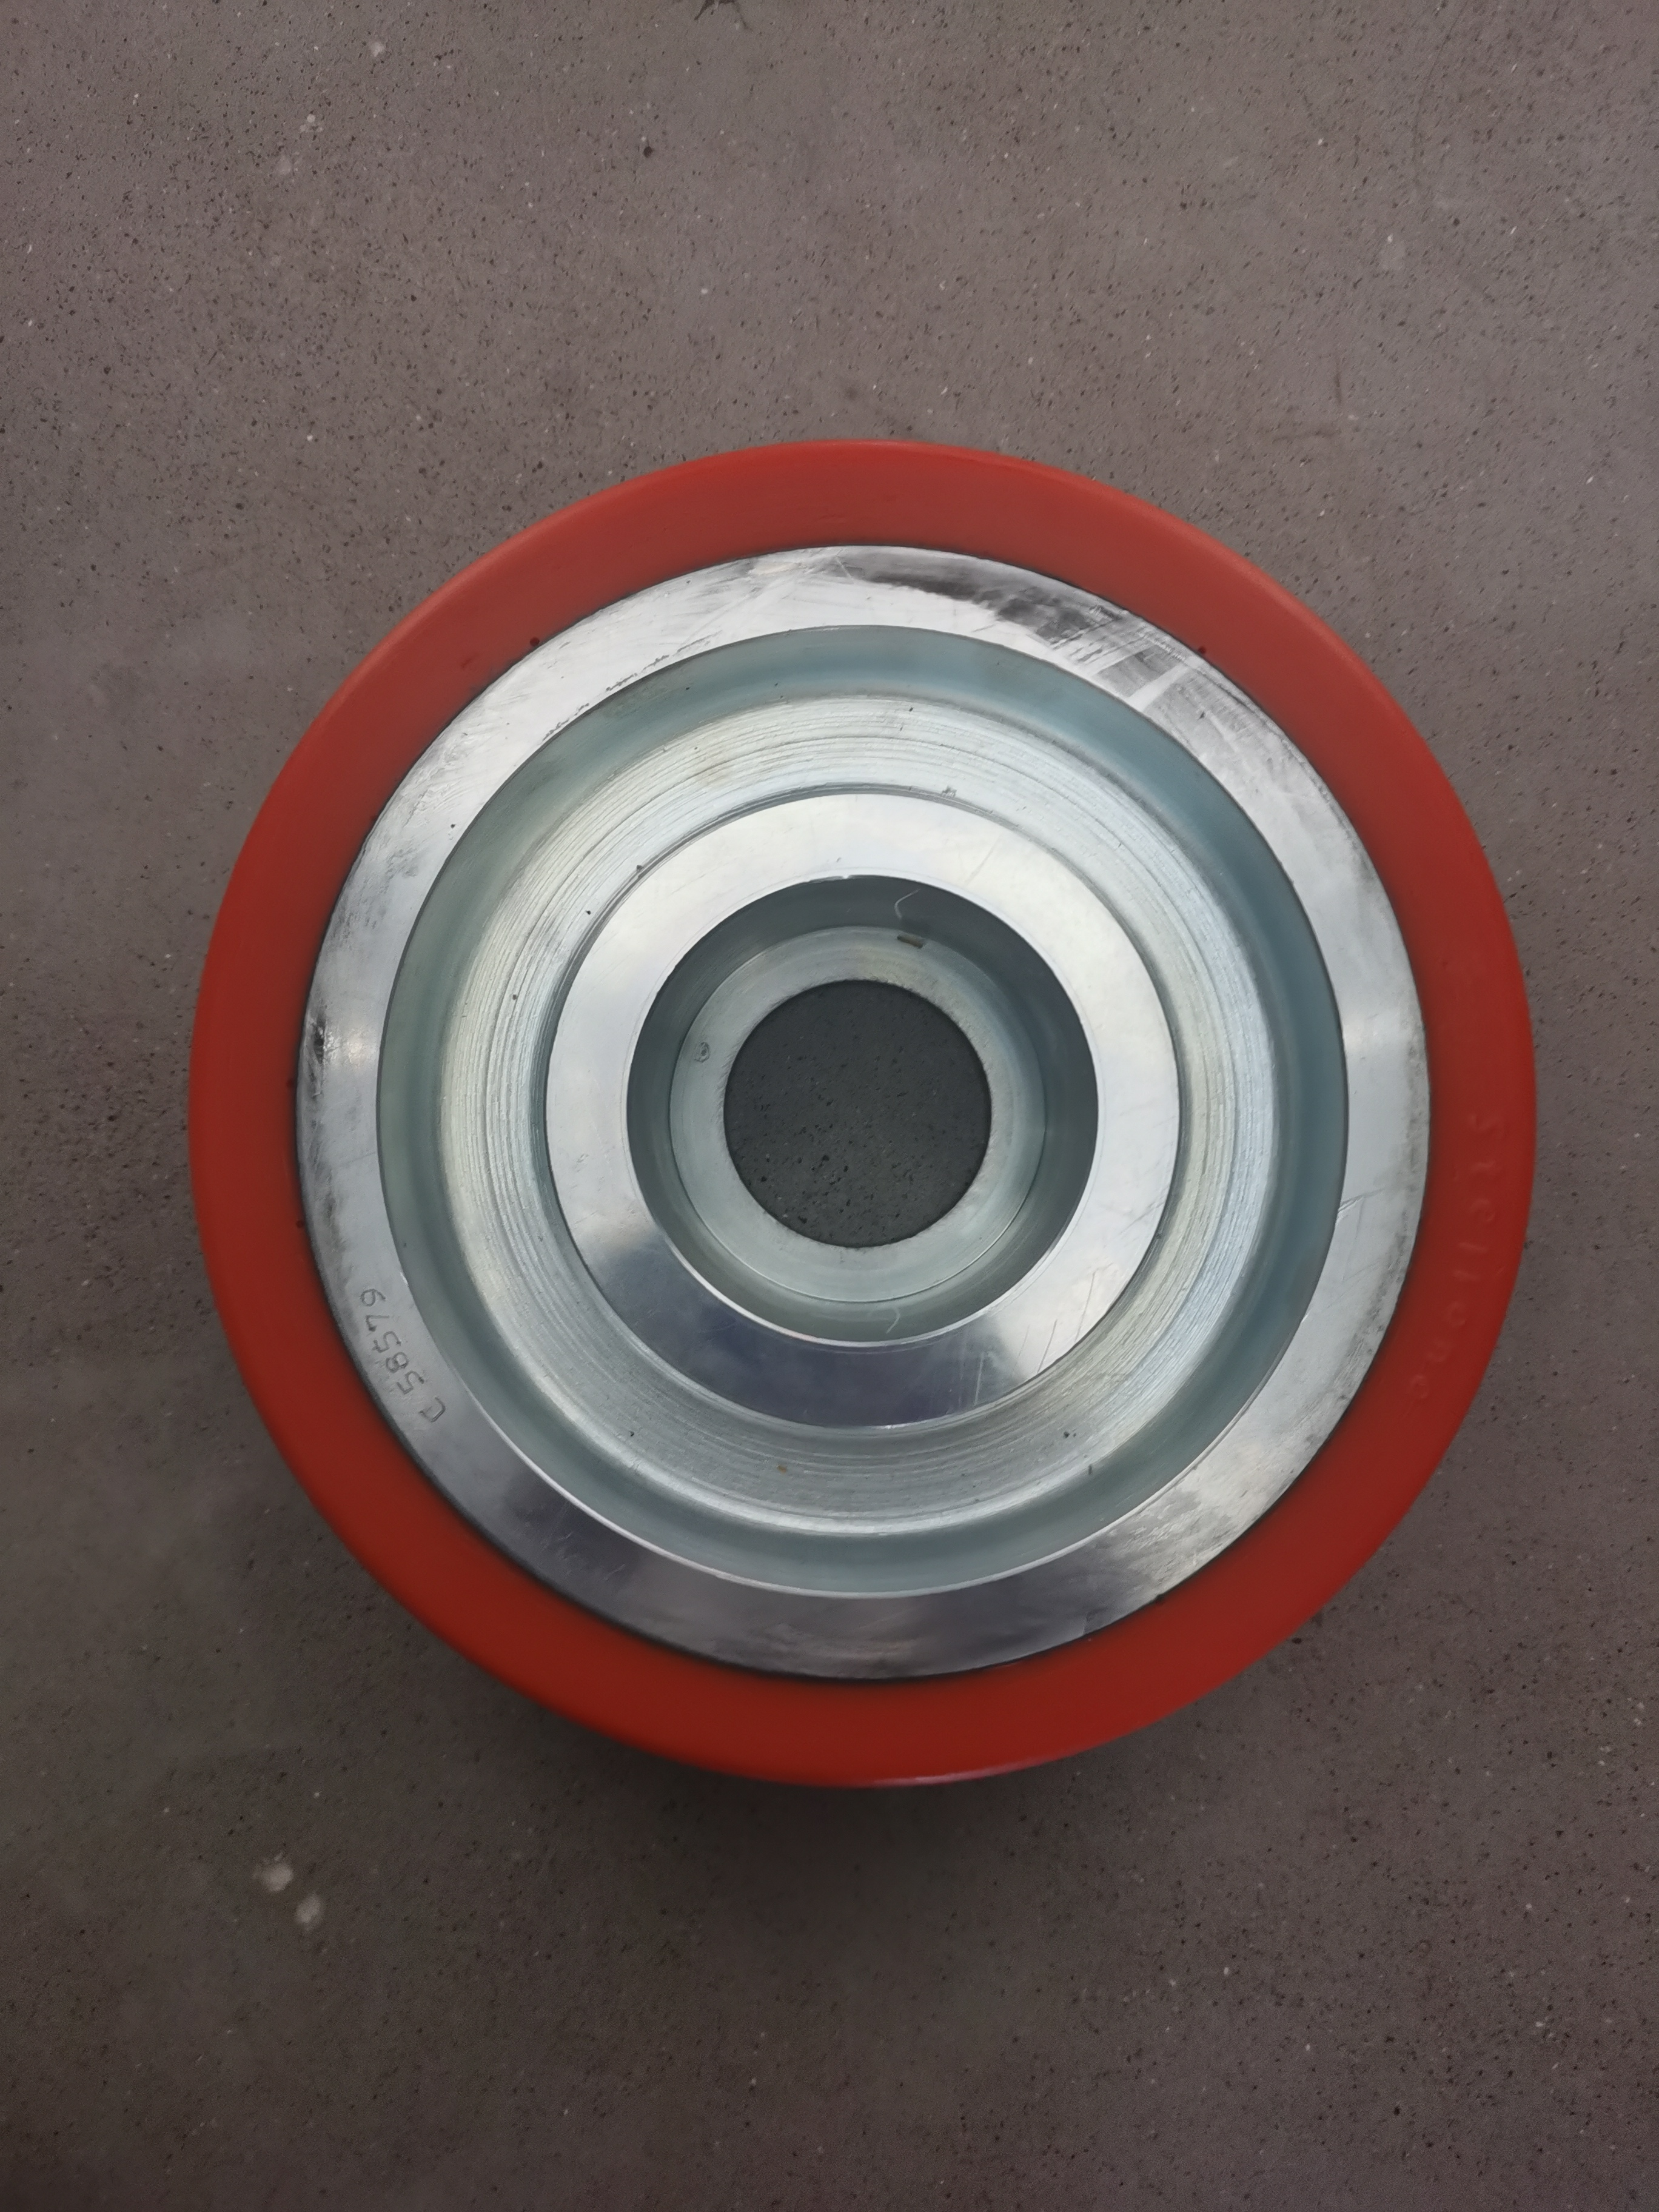good_wheel: (195, 411, 1544, 1825)
